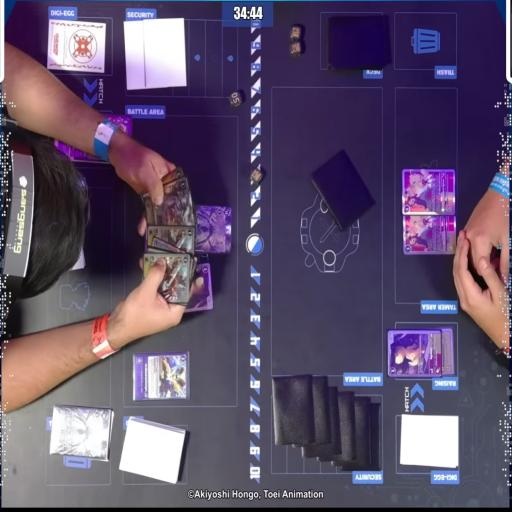card: (49, 404, 115, 460), (130, 353, 190, 404), (141, 179, 199, 228), (386, 330, 441, 378), (401, 166, 457, 212), (142, 254, 190, 305), (402, 214, 458, 254), (146, 223, 196, 256), (440, 330, 458, 376), (157, 168, 184, 186)
